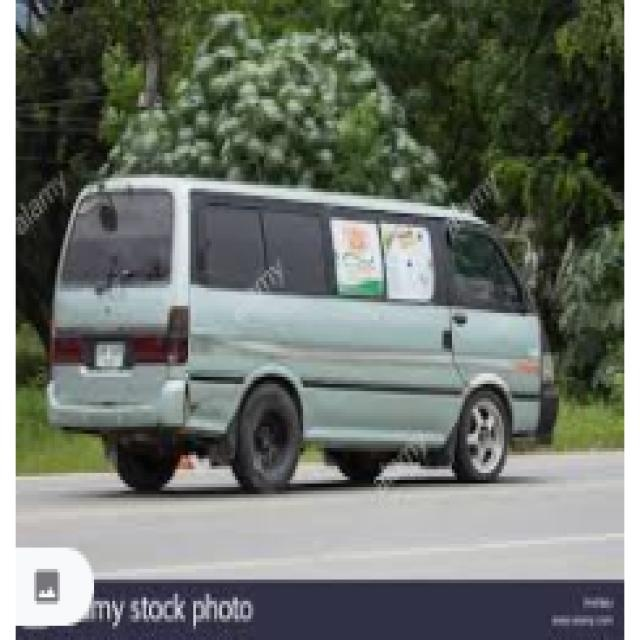Van: (47, 167, 547, 495)
